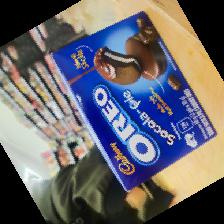Oreo: (49, 9, 218, 194)
